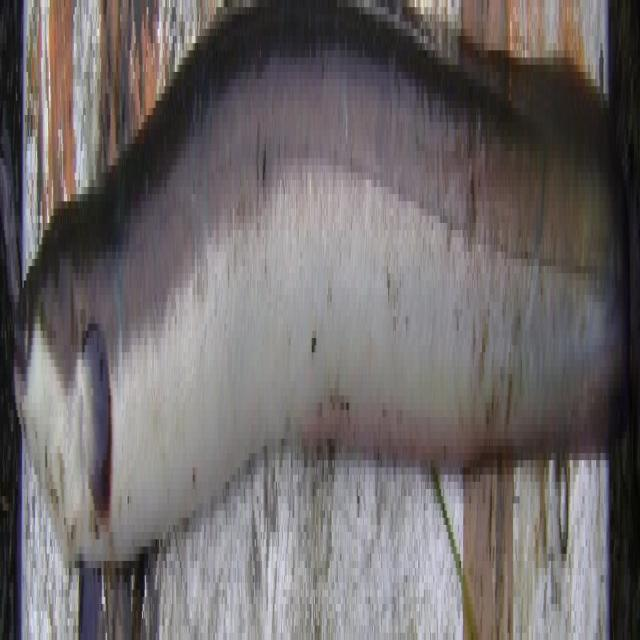Freshwater-Eel: (10, 21, 639, 640)
